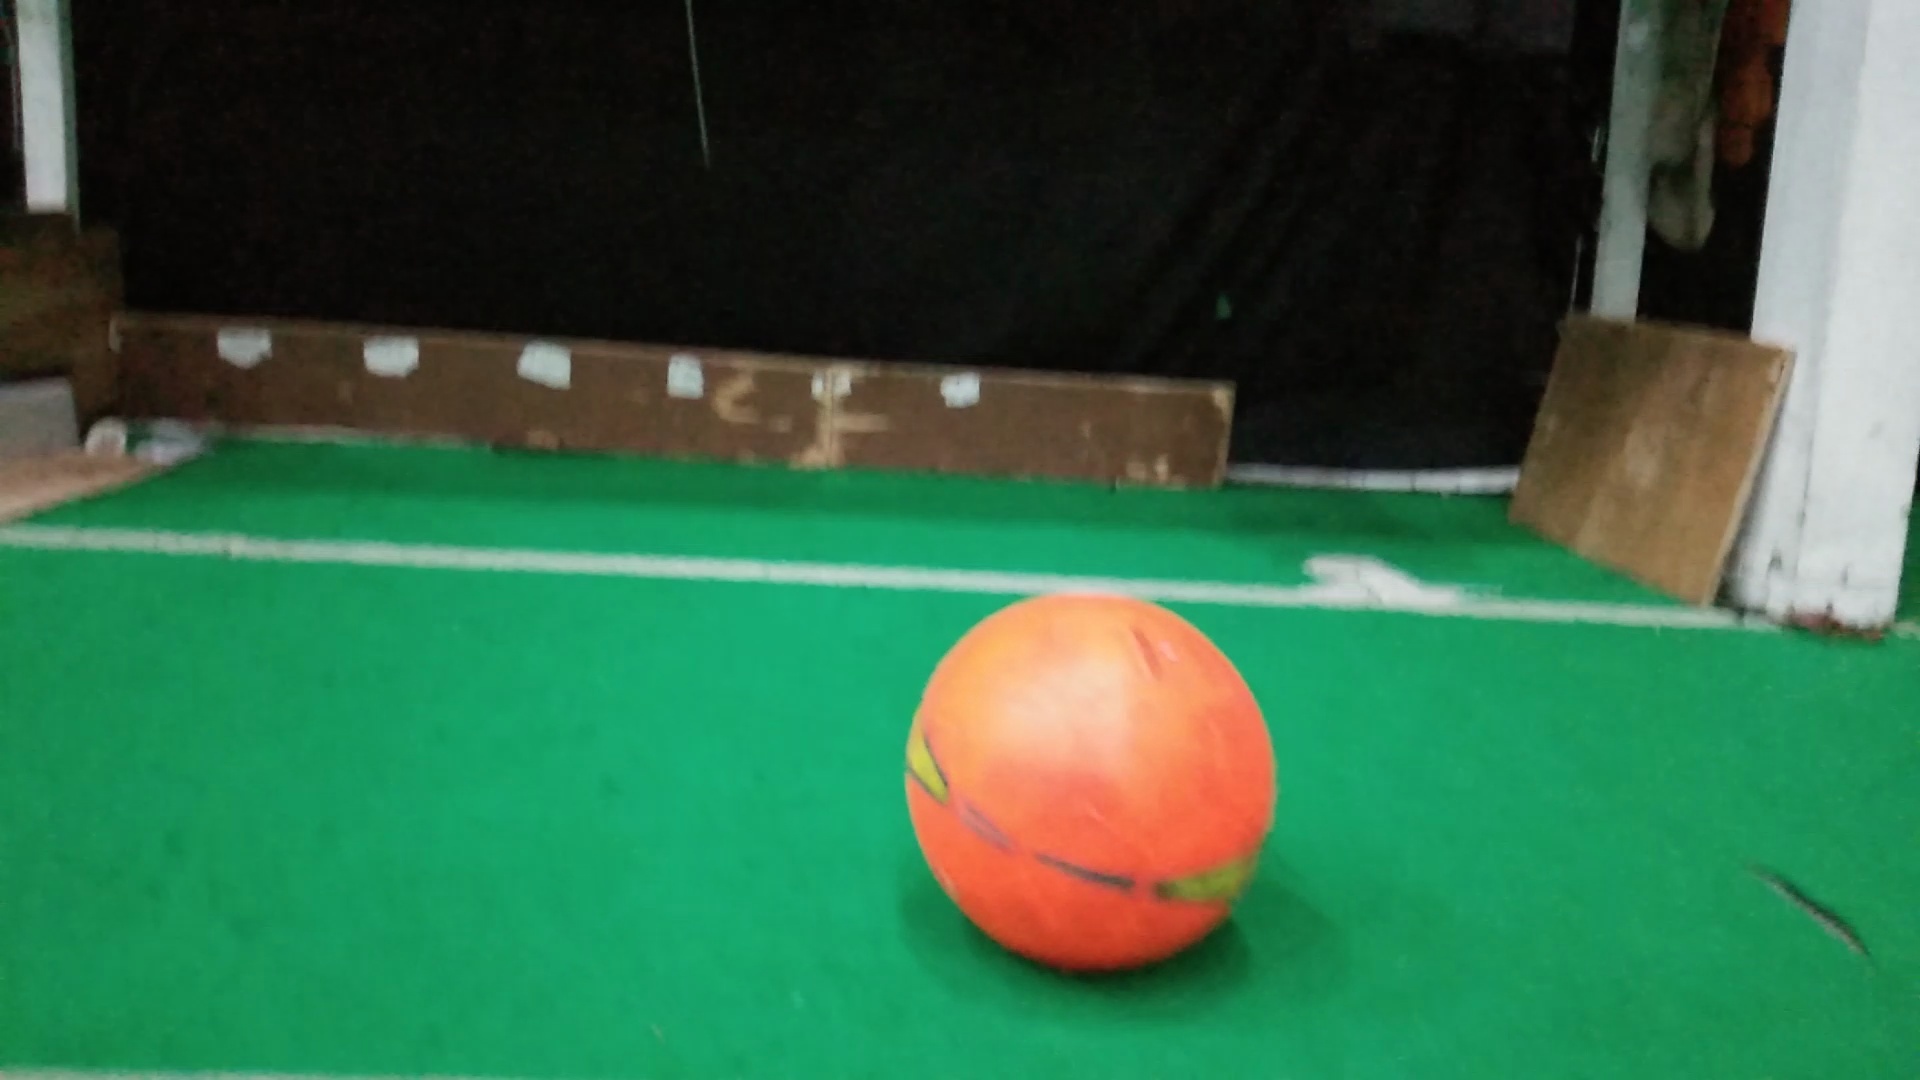bola: (890, 579, 1284, 990)
